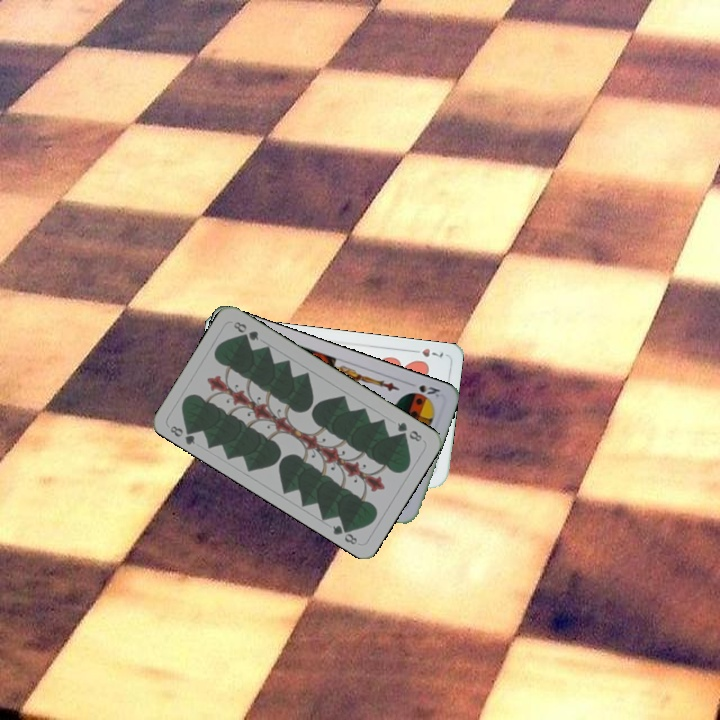G8: (393, 418, 425, 444), (166, 421, 198, 447)
H7: (407, 344, 446, 360)
SK: (404, 378, 443, 400)
